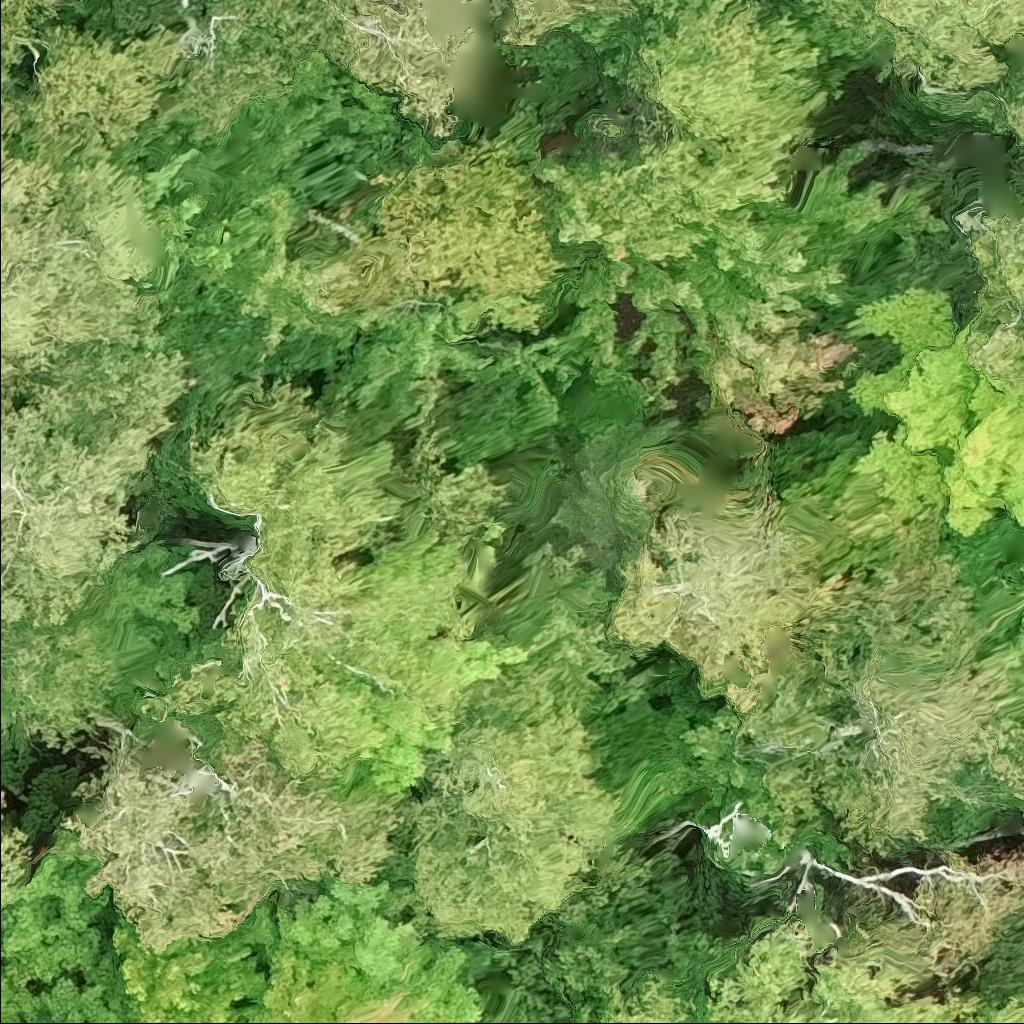crown: (0, 784, 33, 887), (111, 1022, 118, 1023)
